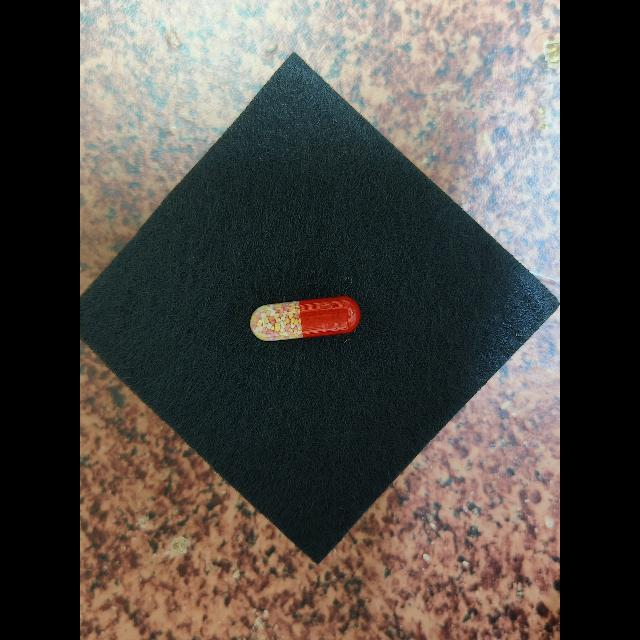Intact Capsule: (250, 296, 361, 341)
